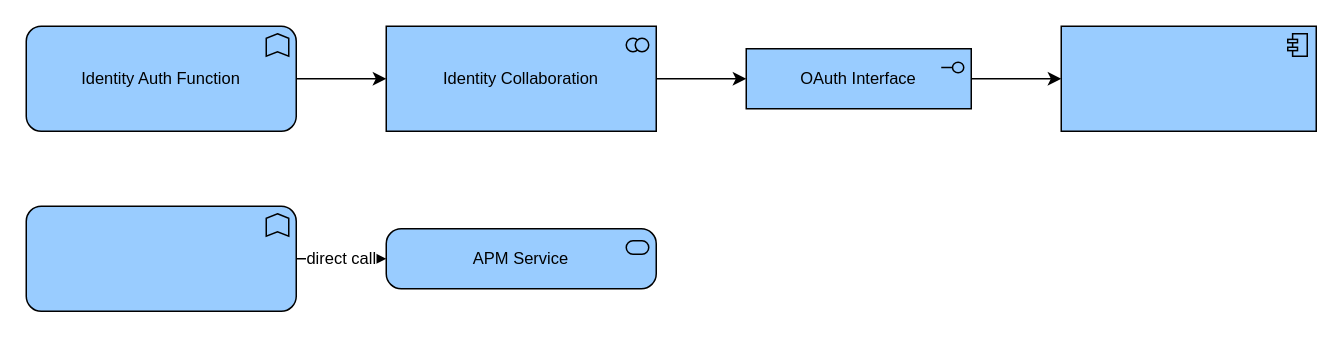
The diagram is 1343 pixels wide and 338 high, and some of its shapes have lost their labels. Each missing label, with the box of its shape:
Identity Provider: (1060, 25, 1316, 131)
Monitoring Function: (25, 205, 296, 311)
